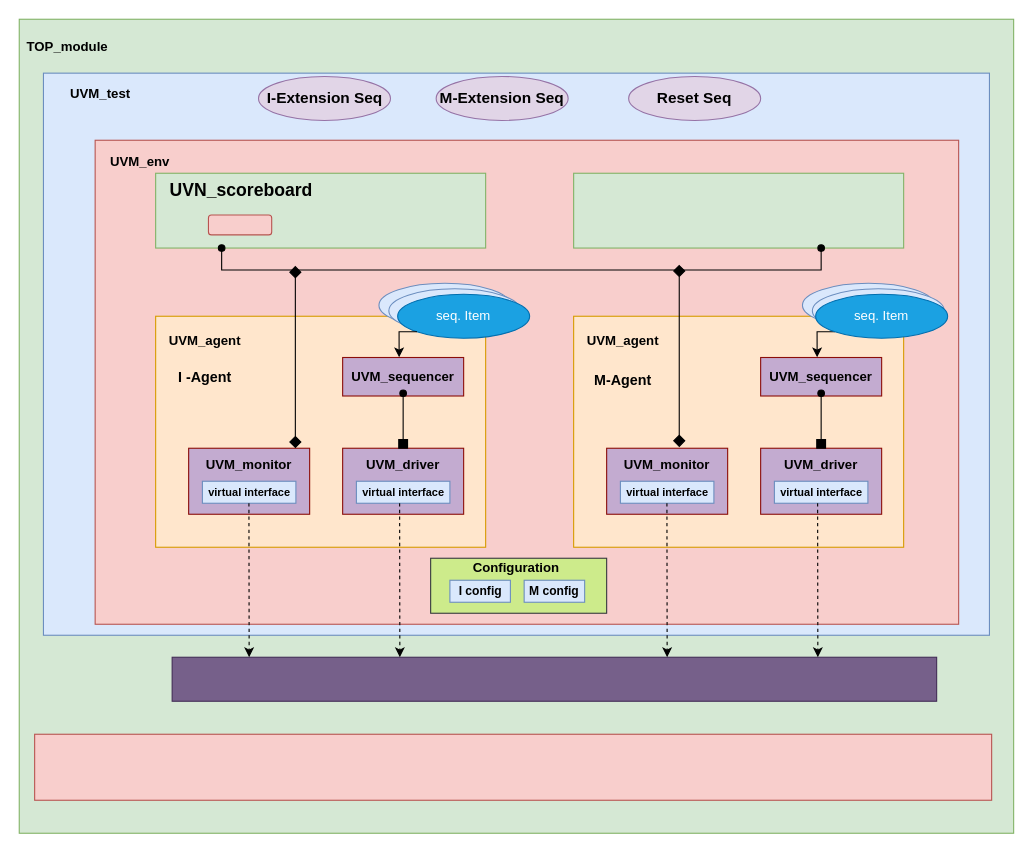
Some shapes in this 1033 by 853 pixel diagram are drawn without their labels. Here are the shapes that lost their labels. From the top down, the centre of each, then its label:
At point 239,224: "py-DPI".
At point 738,210: "Coverage collector".
At point 554,678: "Interface".
At point 513,766: "DUT (RISC-V)".
